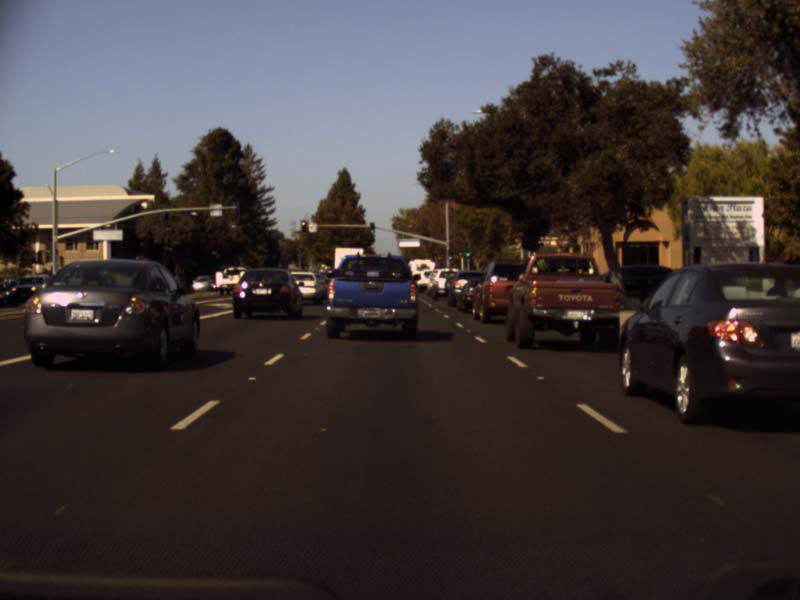Green: (369, 222, 375, 236), (464, 248, 471, 258), (447, 254, 452, 260)
Red: (300, 219, 307, 231)
